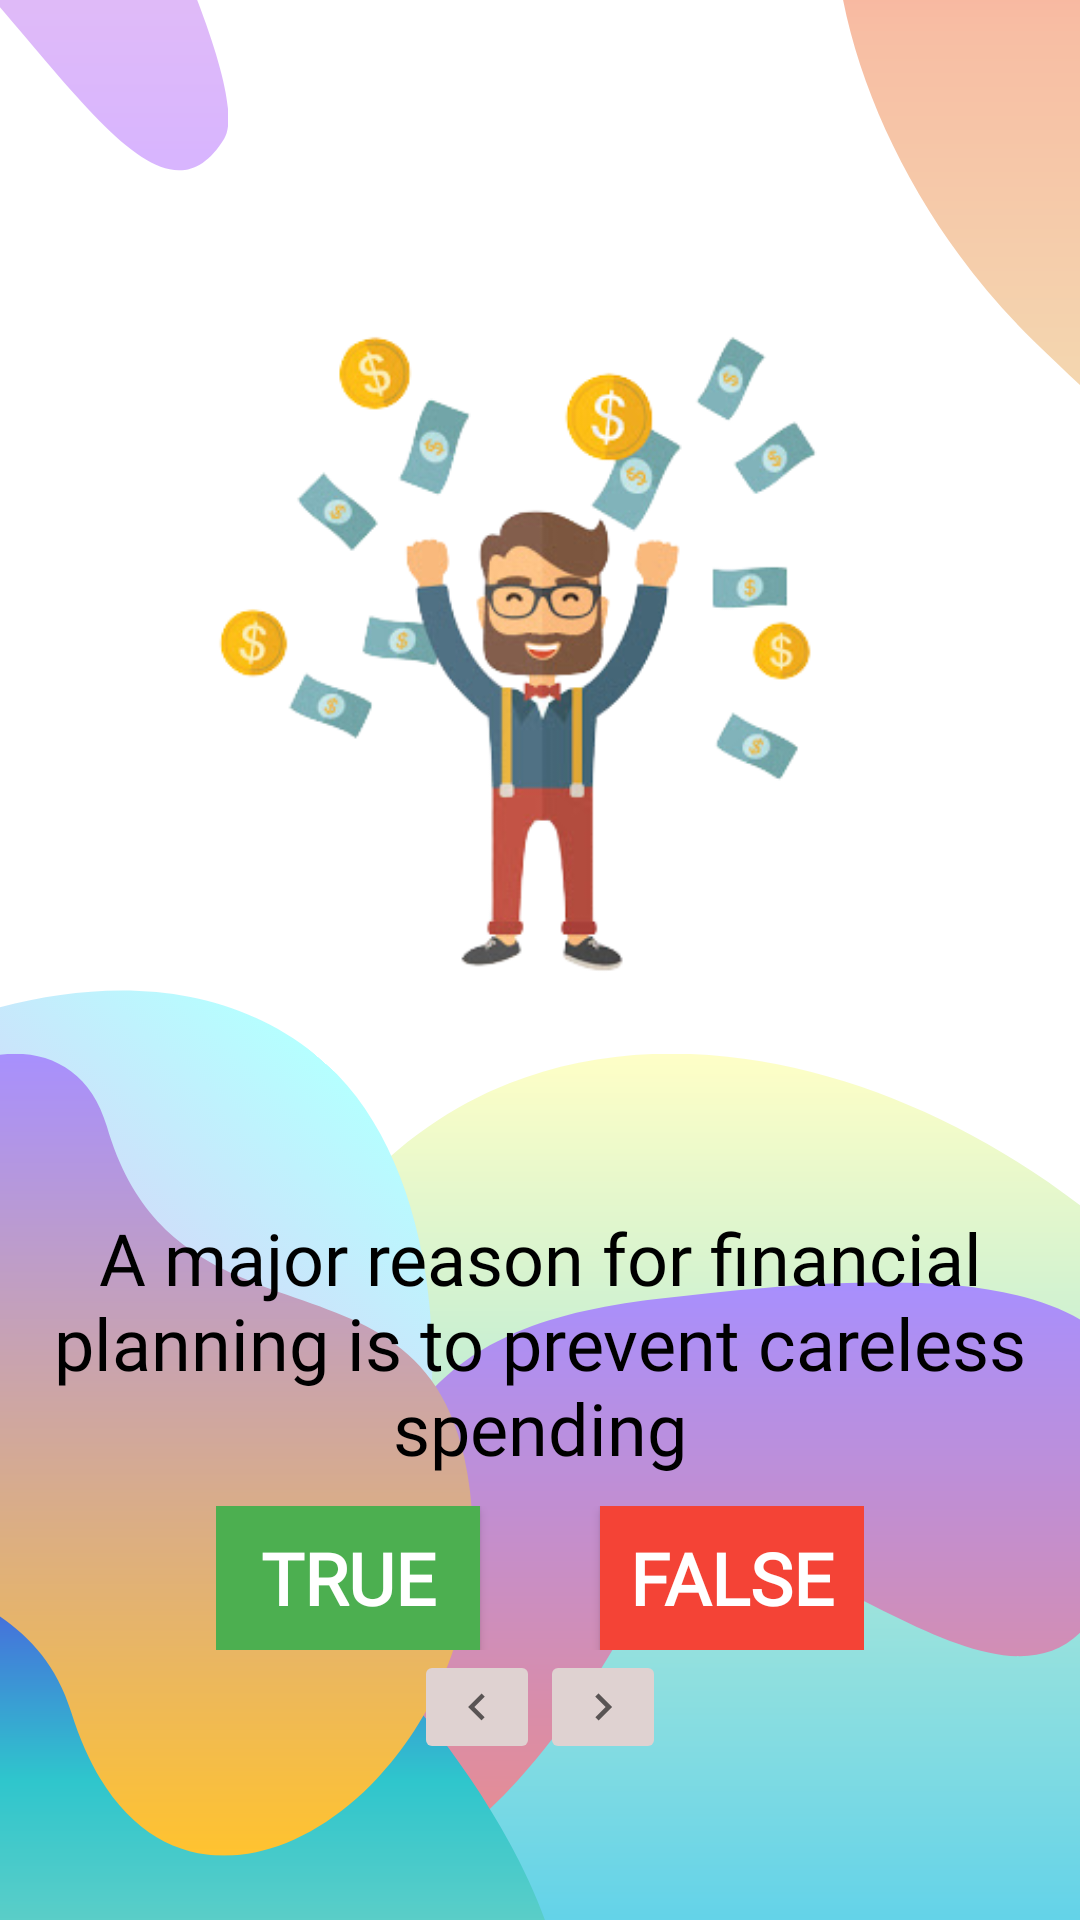

Icons on this 1080×1920 Android screen, each with the point to tap as point (x, y):
keyboard arrow left: point (477, 1707)
keyboard arrow right: point (603, 1707)
